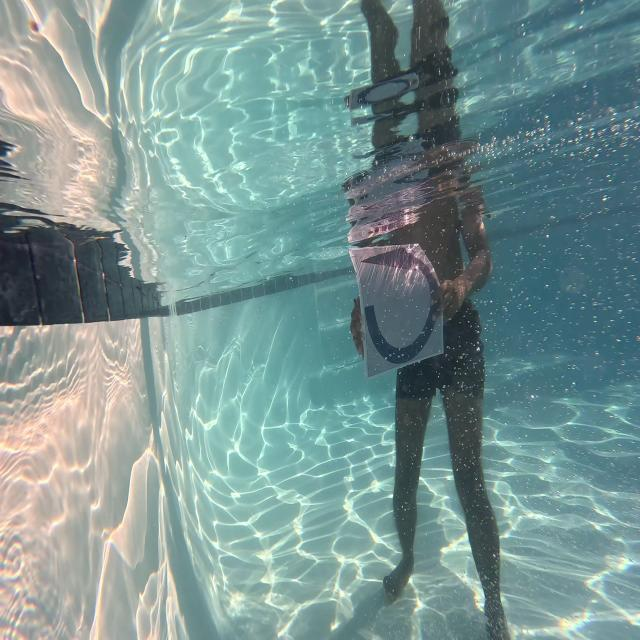blue_side: (354, 235, 444, 374)
